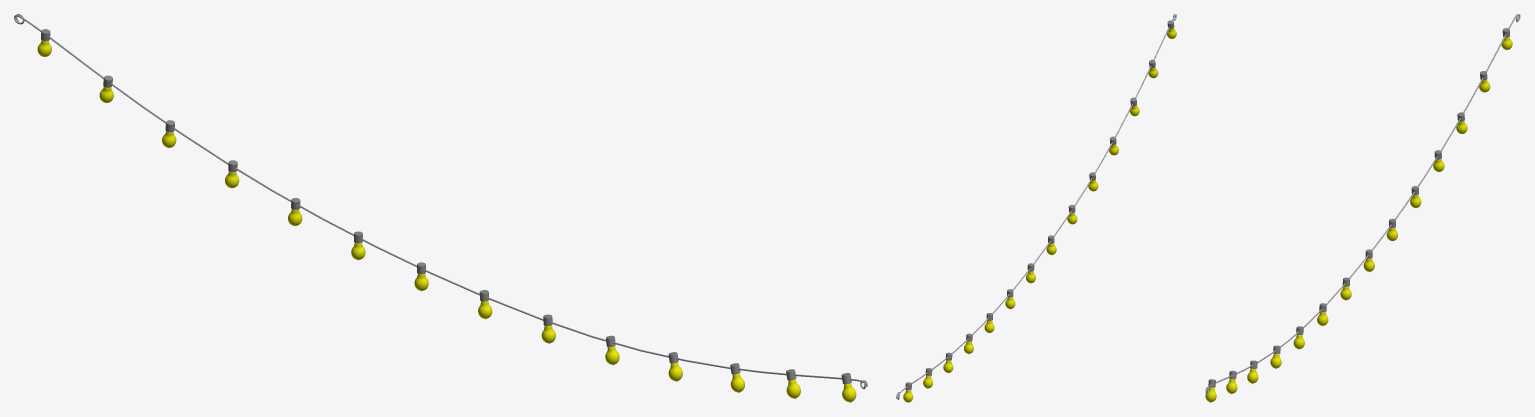
File: light_string 1.fbx
The picture shows the model from 3 angles, left to right: view 1: azimuth 30°, elevation 25°; view 2: azimuth 150°, elevation 25°; view 3: azimuth 330°, elevation 25°; orthographic projection. The views are drawn at different scales.
Parts seen in each view (by area): view 1: pCylinder2; view 2: pCylinder2; view 3: pCylinder2.
Boxes of the visible parts, <box> form: pCylinder2: <box>14,14,867,389</box>; pCylinder2: <box>896,14,1176,399</box>; pCylinder2: <box>1205,14,1520,393</box>.
Bounding box in the file's own units: 2.74 × 1.36 × 12.93.
